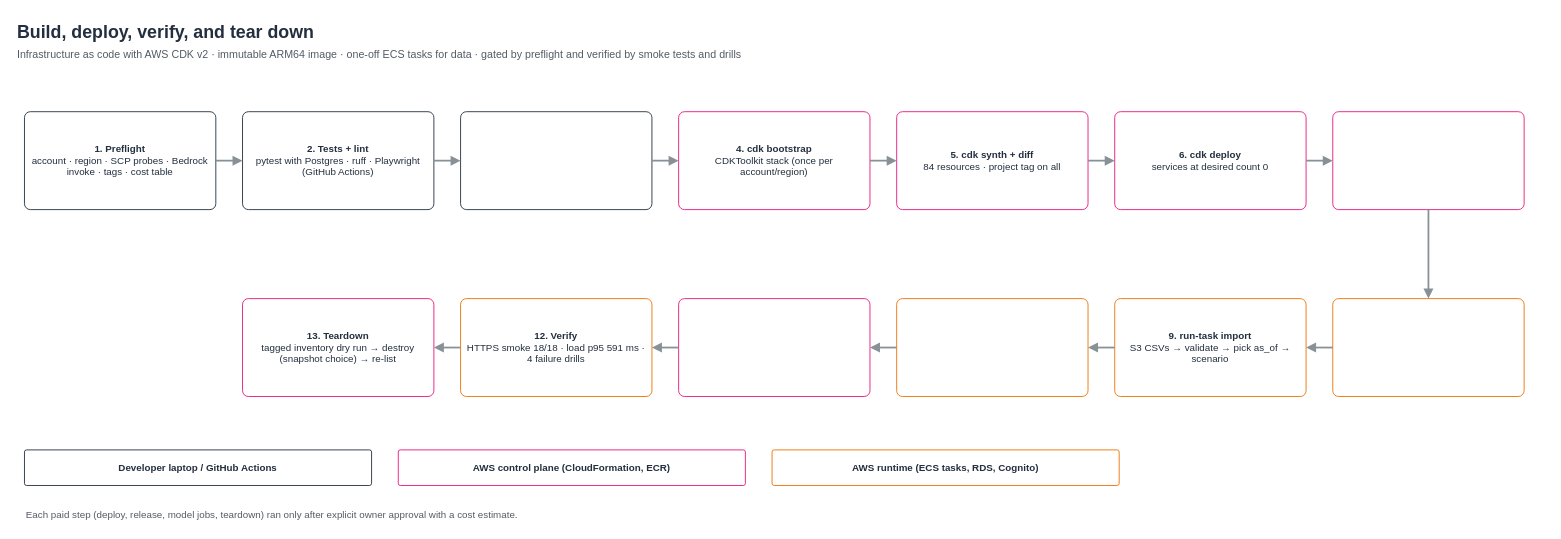
This 1561x539 diagram has some shape labels left out. The centre of each missing label's shape, as x and y in pixels:
"10. run-task seed Cognito users + seller grants" goes at pixel 992 347.
"11. cdk deploy (release) API + worker to 1 task each" goes at pixel 774 347.
"3. Docker build linux/arm64 · uv sync --locked" goes at pixel 556 160.
"7. ECR push immutable release tag" goes at pixel 1428 160.
"8. run-task migrate create DB roles · Alembic migrations" goes at pixel 1428 347.
